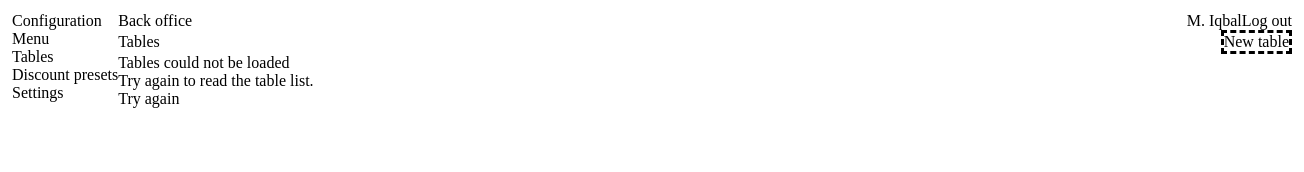
Scenario: AC 3. the states of the list › shows the failed state, and Try again repeats the read and only the read
This screenshot has width=1304, height=172.
Click the button "Try again": [149, 99] box [118,90,179,108]
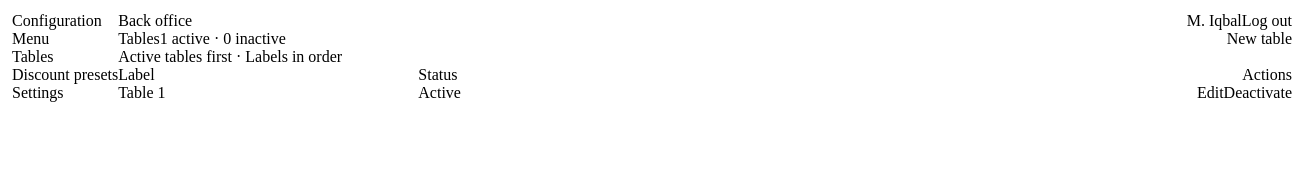
Expected: the message "Tables could not be loaded Try again to read the table list. Try again" is gone
